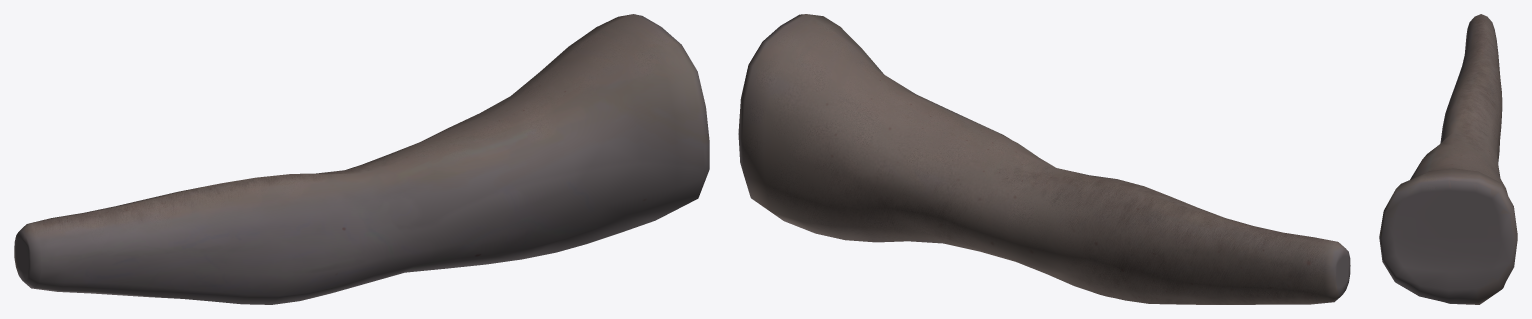
File: Arms_HR832.fbx
3 renders of one model, left to right at view 1: azimuth 30°, elevation 25°; view 2: azimuth 150°, elevation 25°; view 3: azimuth 270°, elevation 25°, orthographic. The views are drawn at different scales.
Visible parts, largest first — view 1: Arm1; view 2: Arm1; view 3: Arm1.
Part boxes in pixels (<box>): Arm1: <box>14,14,709,304</box>; Arm1: <box>738,14,1350,304</box>; Arm1: <box>1379,14,1517,304</box>.
Bounding box in the file's own units: 5.98 × 1.8 × 1.61.
